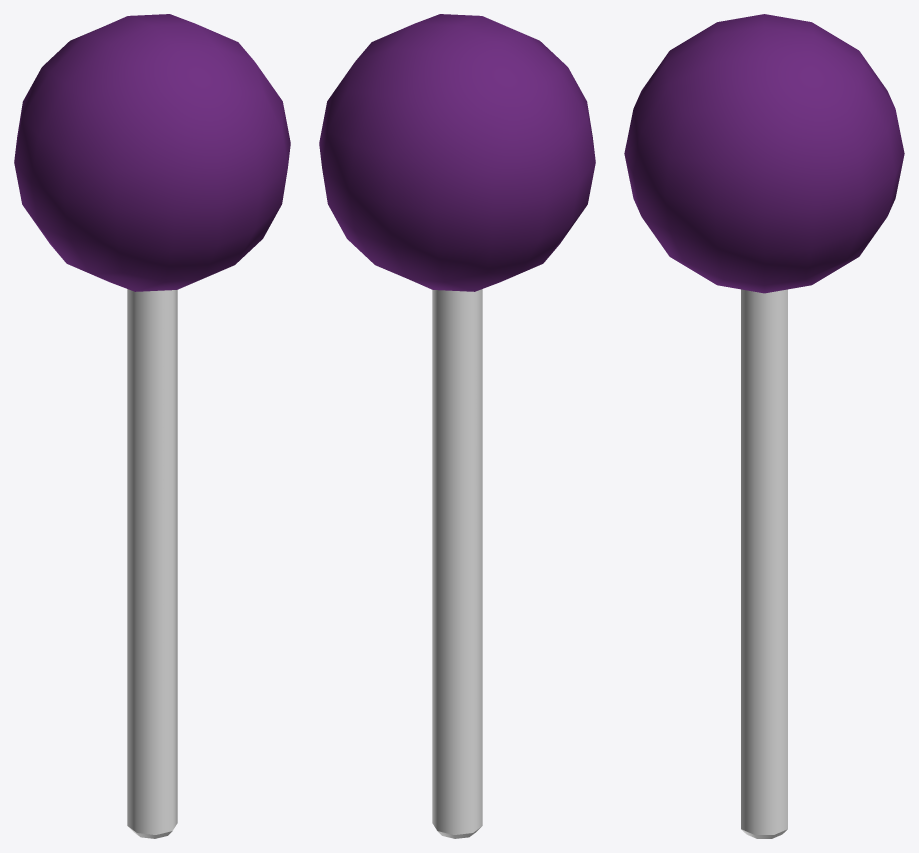
File: Candy_30.fbx
3 renders of one model, left to right at view 1: azimuth 30°, elevation 25°; view 2: azimuth 150°, elevation 25°; view 3: azimuth 270°, elevation 25°, orthographic.
Parts seen in each view (by area): view 1: Candy_30; view 2: Candy_30; view 3: Candy_30.
Boxes of the visible parts, <box> form: Candy_30: <box>14,14,290,838</box>; Candy_30: <box>319,14,595,838</box>; Candy_30: <box>624,14,904,838</box>.
Size of the model in its own units: 0.8302 by 2.63 by 0.8302.
